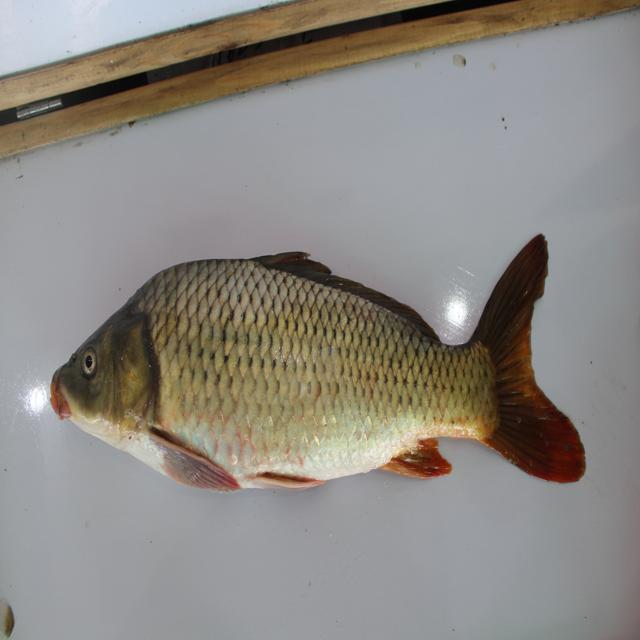CommonCarp: (28, 244, 625, 537)
